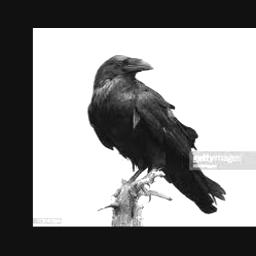Crow: (86, 54, 226, 216)
